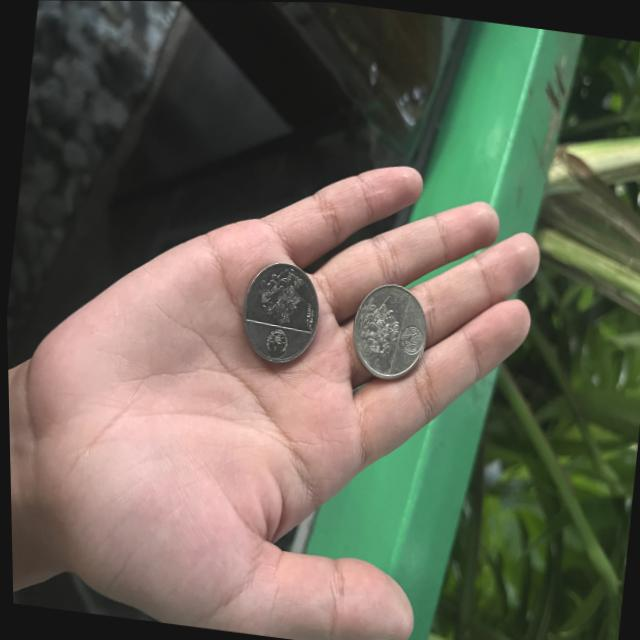1_New_Back: (348, 290, 403, 360), (251, 261, 310, 325)
